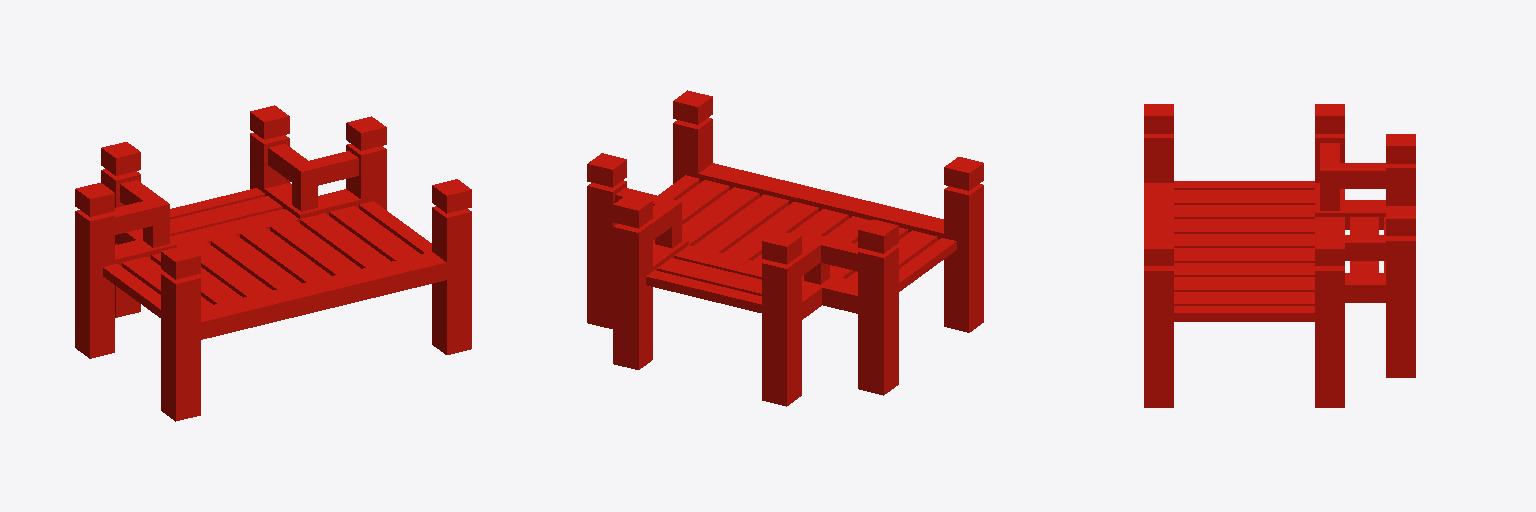
3 renders of one model, left to right at view 1: azimuth 30°, elevation 25°; view 2: azimuth 150°, elevation 25°; view 3: azimuth 270°, elevation 25°, orthographic.
Parts seen in each view (by area): view 1: cube; view 2: cube; view 3: cube.
Part boxes in pixels (x1,y1,x2,y2): cube: (75,105,471,421); cube: (587,90,983,406); cube: (1144,104,1415,407).
Size of the model in its own units: 1.09 by 0.5625 by 0.8672.
Materials: 1 (1 with a texture image).